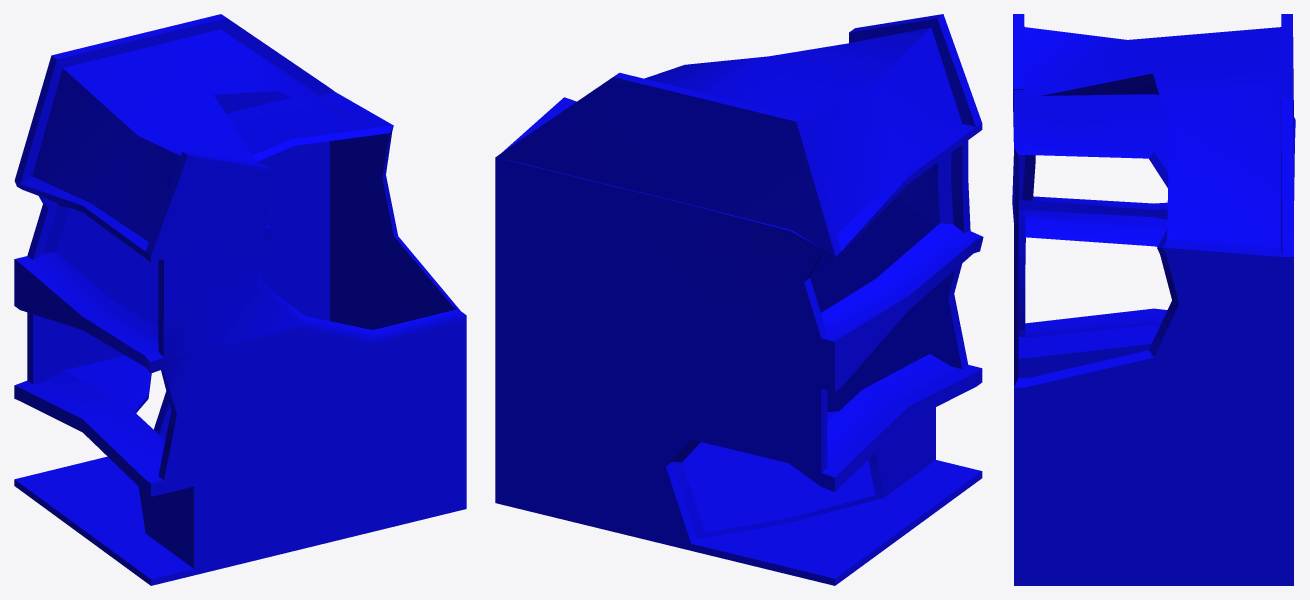
The model's file is broken shop 1 test low.fbx.
3 views of the same model, side by side, from view 1: azimuth 30°, elevation 25°; view 2: azimuth 150°, elevation 25°; view 3: azimuth 270°, elevation 25° (orthographic). The views are drawn at different scales.
Visible parts, largest first — view 1: Broken_shop_1_low; view 2: Broken_shop_1_low; view 3: Broken_shop_1_low.
Boxes of the visible parts, <box> form: Broken_shop_1_low: <box>14,14,466,585</box>; Broken_shop_1_low: <box>495,14,983,585</box>; Broken_shop_1_low: <box>1012,14,1295,585</box>.
Bounding box in the file's own units: 20.07 × 25.56 × 15.19.
